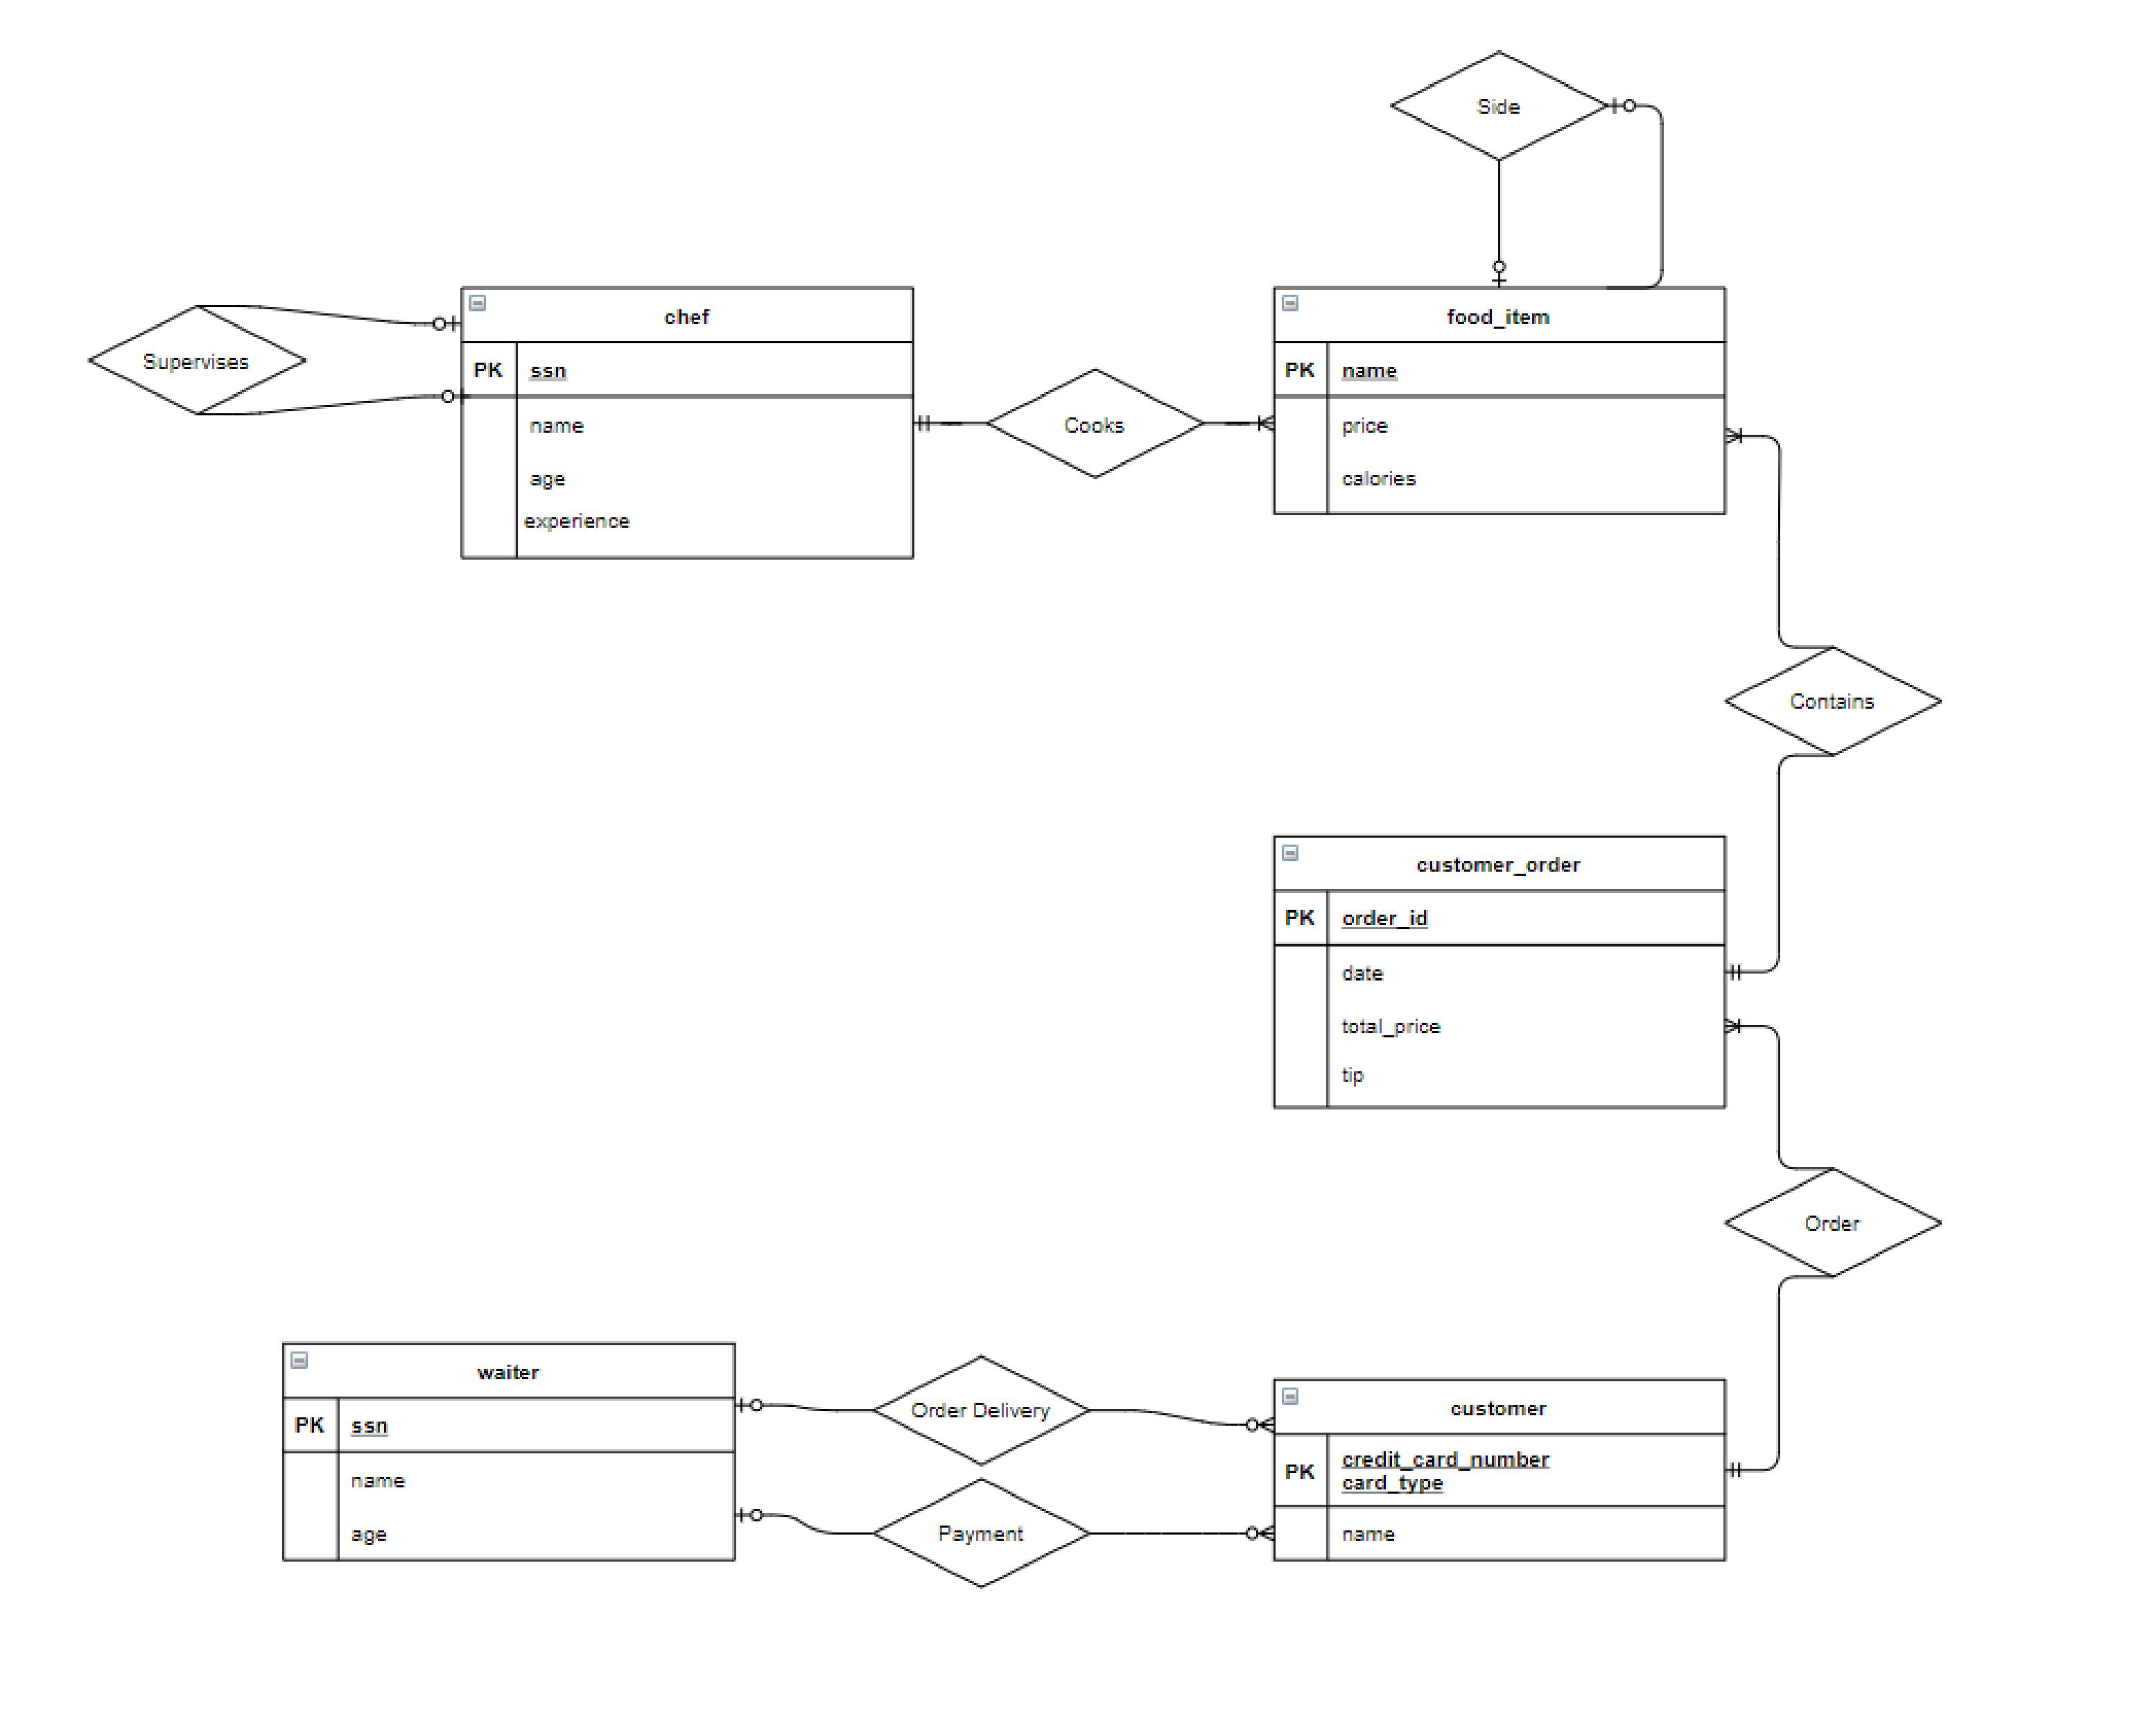Entity: (1271, 833, 1730, 1110), (459, 284, 915, 561), (1271, 284, 1728, 517), (279, 1340, 740, 1565), (1273, 1377, 1728, 1563)
Relationship: (873, 1352, 1090, 1468), (985, 367, 1204, 481), (1388, 49, 1607, 161), (873, 1477, 1090, 1589), (1725, 1168, 1944, 1277), (86, 307, 309, 414), (1725, 647, 1940, 754)
